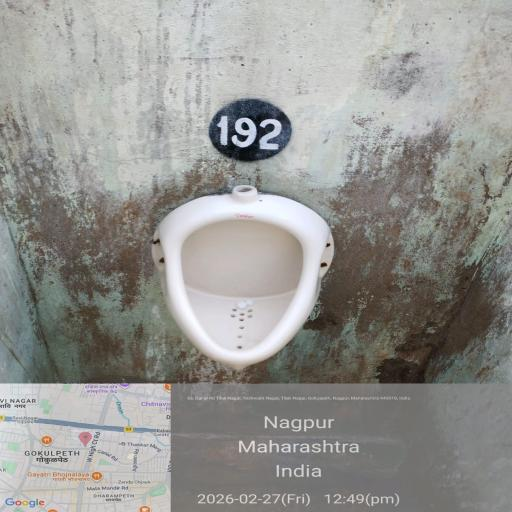clean_urinal: (114, 150, 338, 380)
partial_dirty_floor: (12, 17, 494, 214), (29, 374, 477, 512)
